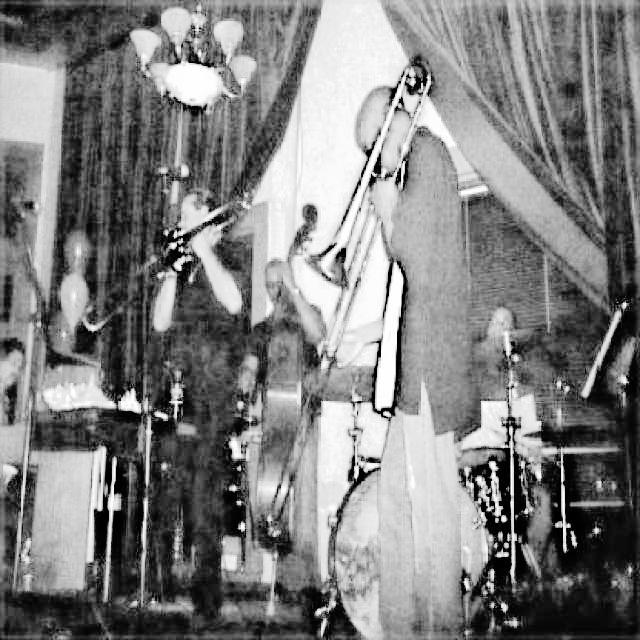Person: (330, 80, 479, 640), (142, 180, 247, 615)
